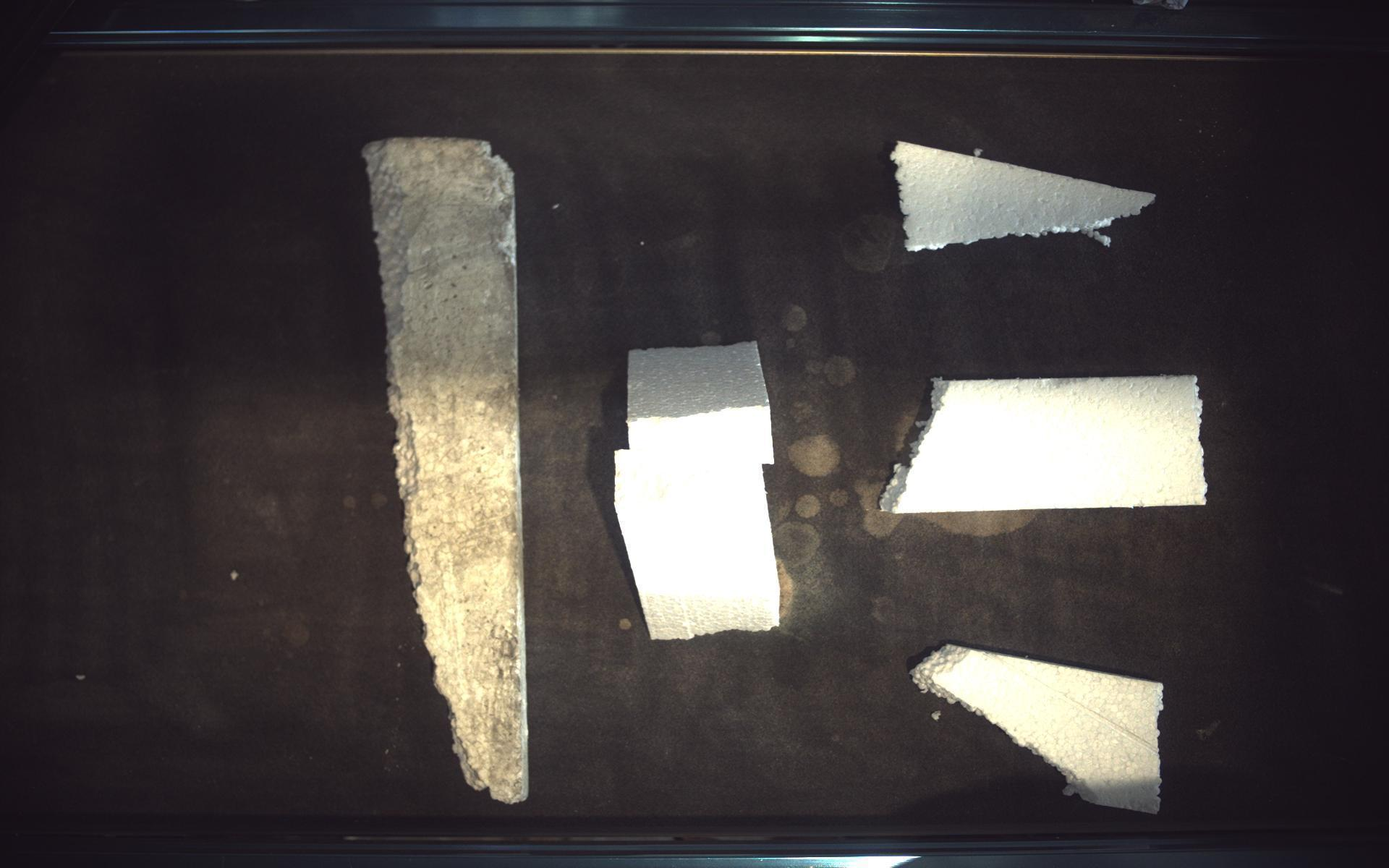foam: (363, 137, 529, 805), (881, 375, 1210, 514), (913, 645, 1166, 815), (616, 450, 781, 640), (893, 141, 1158, 250), (628, 342, 775, 464)
